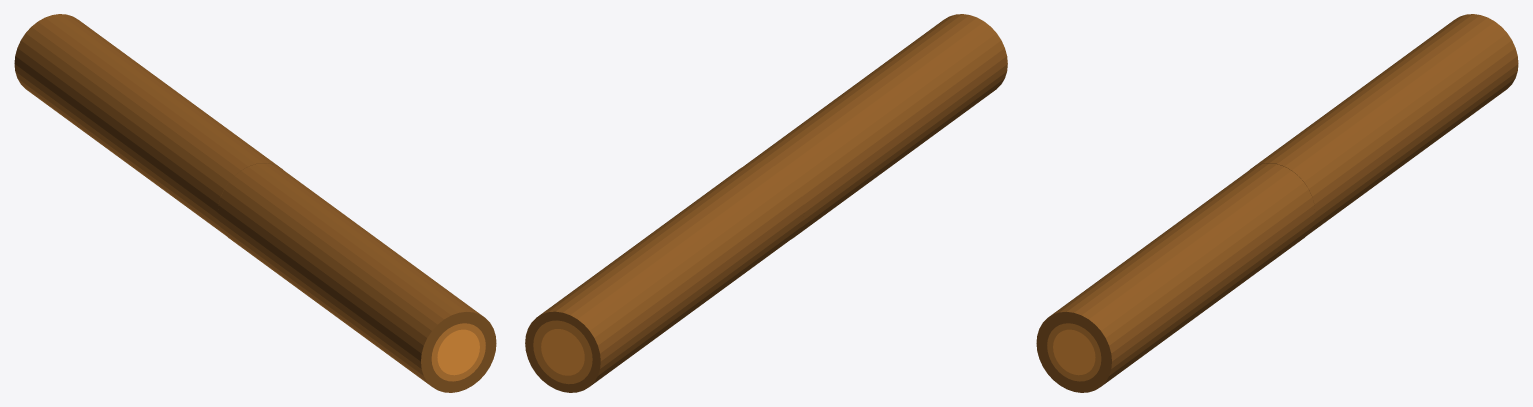
File: kalas.fbx
3 renders of one model, left to right at view 1: azimuth 30°, elevation 25°; view 2: azimuth 150°, elevation 25°; view 3: azimuth 330°, elevation 25°, orthographic.
Visible parts, largest first — view 1: Cylinder; view 2: Cylinder; view 3: Cylinder.
Part boxes in pixels (x1=…): Cylinder: x1=14, y1=14, x2=496, y2=392; Cylinder: x1=525, y1=14, x2=1007, y2=392; Cylinder: x1=1036, y1=14, x2=1518, y2=392.
Bounding box in the file's own units: 200 × 201 × 1863.
